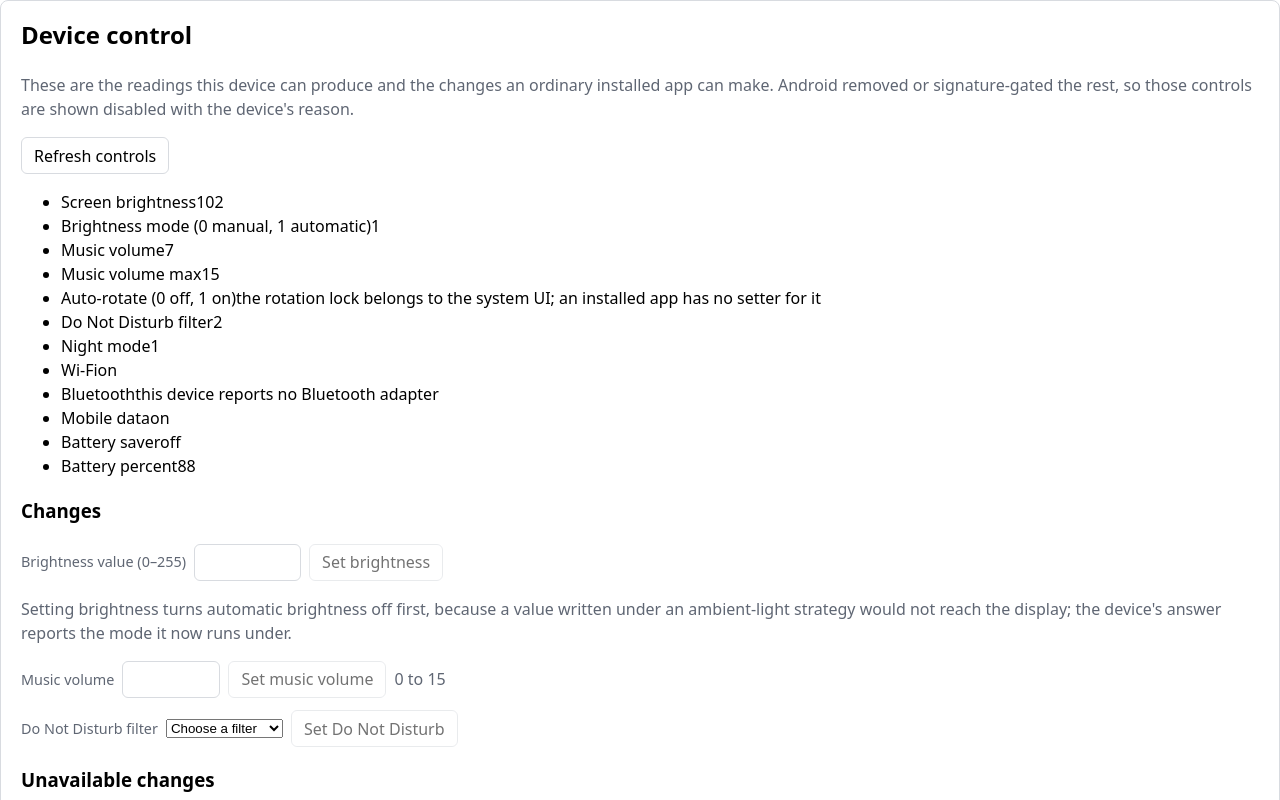
Test: the control panel › re-reads brightness when the poll fails after the command was accepted
The image size is (1280, 800).
Expected: the list named "control readings" is shown, [61, 191, 821, 477]
Type "120" into the number field labelled "Brightness value (0–255)" at (248, 562), box [194, 544, 301, 581]
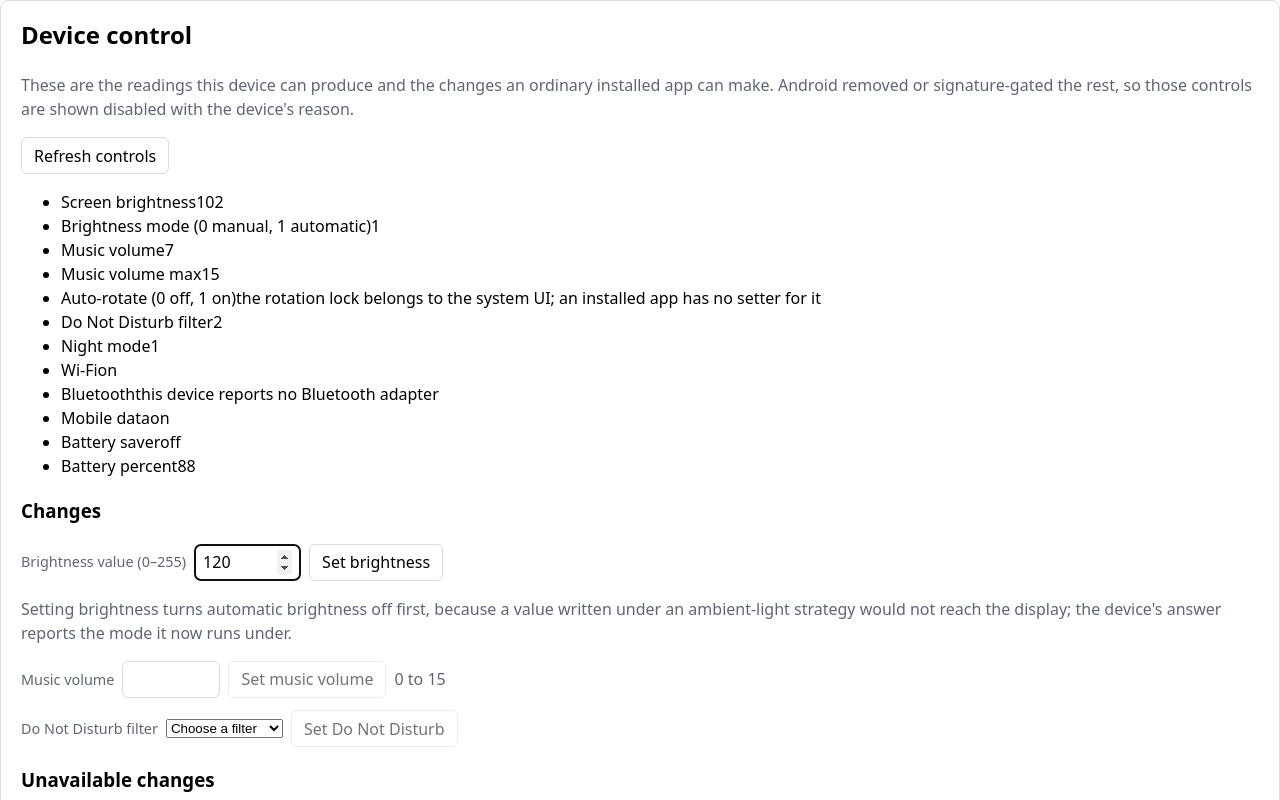
Click the button "Set brightness" at (376, 562), box [309, 544, 443, 581]
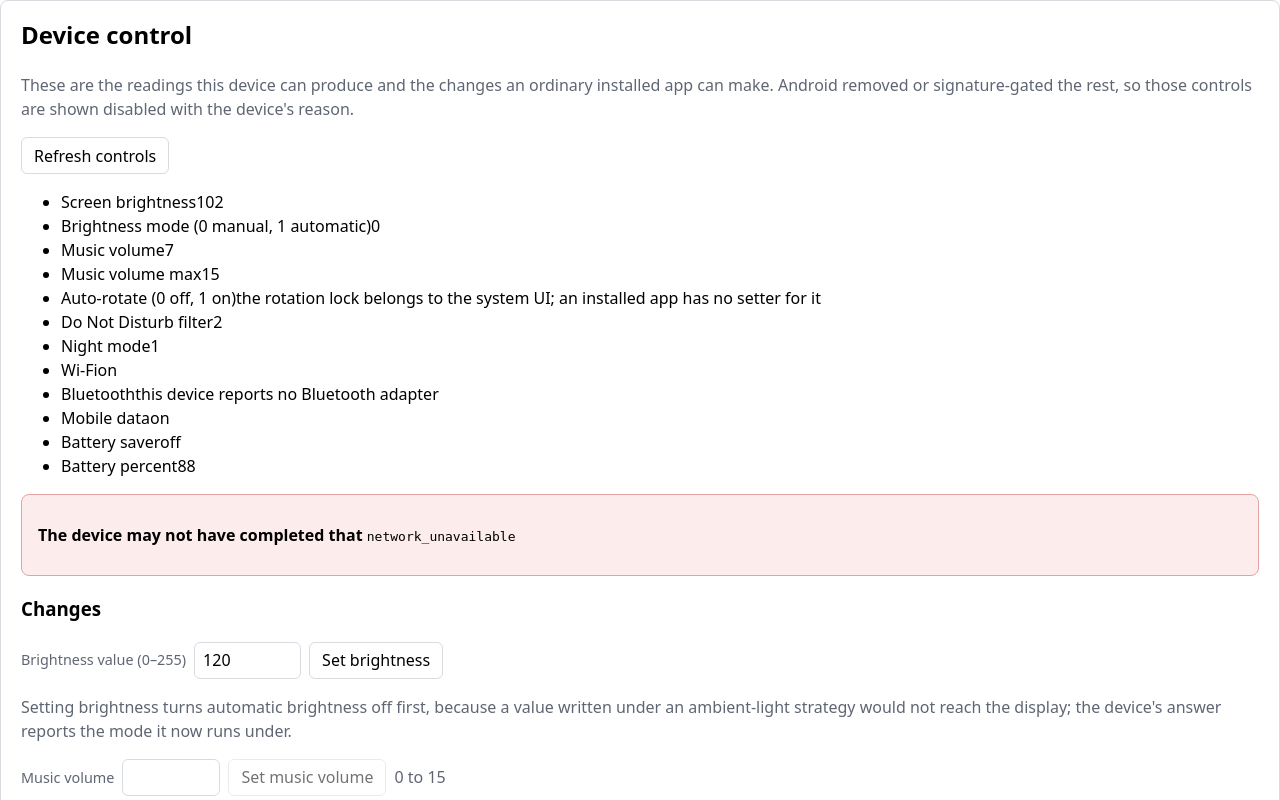
Expected: the message does not show "did not do that", [21, 494, 1259, 576]
Expected: the message shows "network_unavailable", [367, 529, 516, 544]
Expected: the message shows "may not have completed that", [38, 524, 363, 546]
